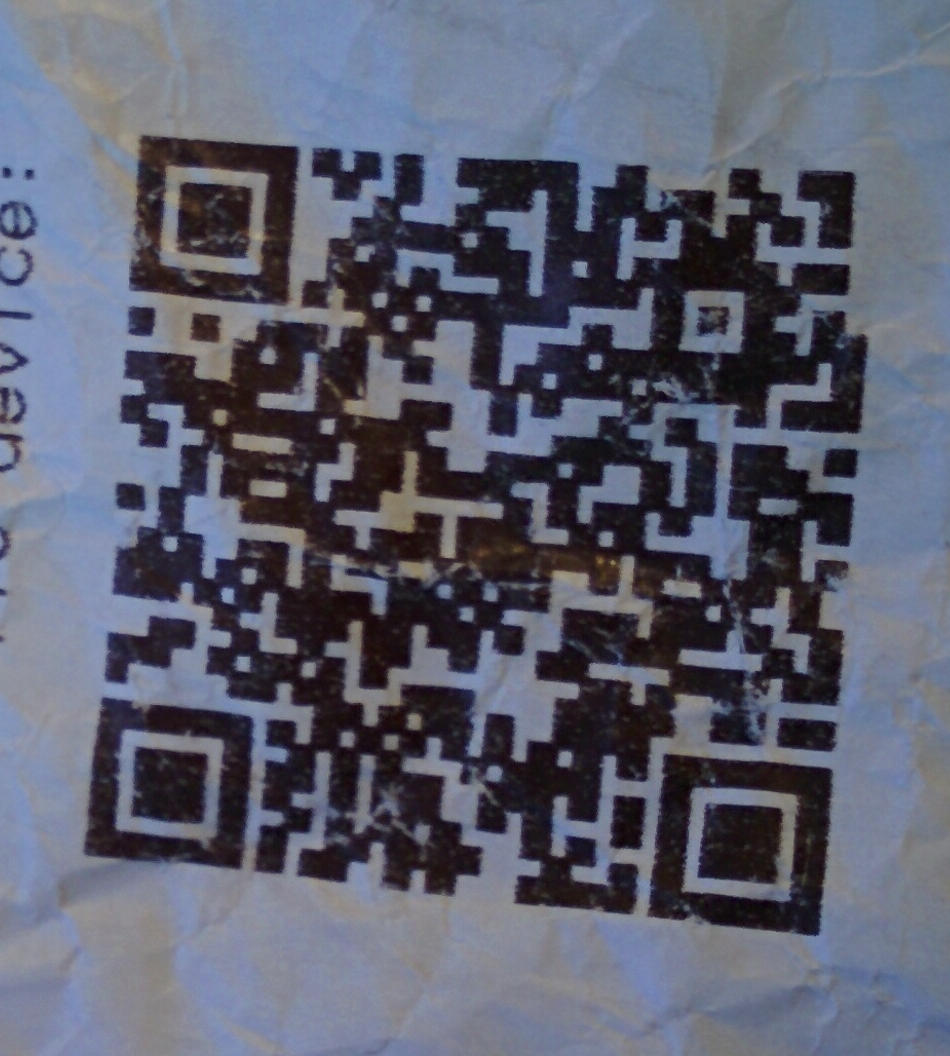QR_CODE: (66, 87, 876, 956)
